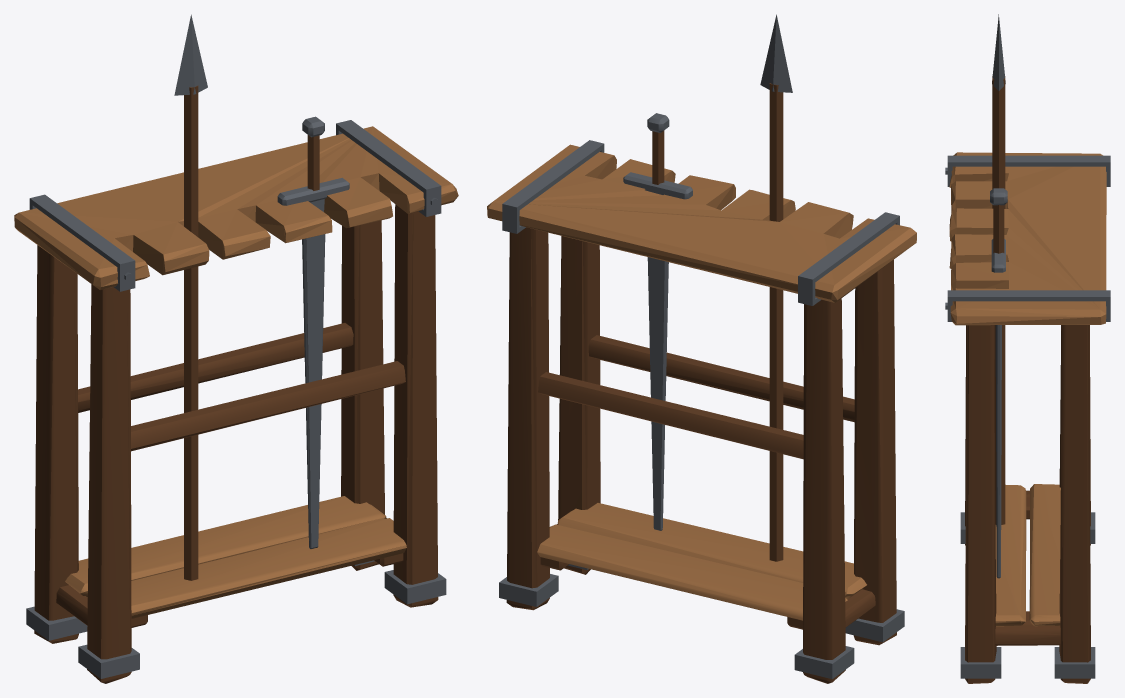
Rendered from smith_weapon_rack.glb.
3 views of the same model, side by side, from view 1: azimuth 30°, elevation 25°; view 2: azimuth 150°, elevation 25°; view 3: azimuth 270°, elevation 25° (orthographic). The views are drawn at different scales.
Visible parts, largest first — view 1: top_board, frame_leg_front_left, frame_leg_front_right, frame_leg_back_left, frame_leg_back_right, tray_plank_1, tray_plank_0, frame_long_rail_front, spear_shaft, frame_long_rail_back, sword_blade, strap_l_band (+8 smaller); view 2: top_board, frame_leg_back_left, frame_leg_back_right, frame_leg_front_left, frame_leg_front_right, tray_plank_0, tray_plank_1, frame_long_rail_back, spear_shaft, frame_long_rail_front, sword_blade, strap_r_band (+8 smaller); view 3: top_board, frame_leg_back_right, frame_leg_front_right, tray_plank_0, tray_plank_1, spear_shaft, strap_r_band, strap_l_band, sword_blade, frame_side_rail_right, frame_foot_band_front_right, frame_foot_band_back_right (+5 smaller).
Boxes of the visible parts, x1,y1,x2,y2 form: top_board: [14, 126, 458, 289]; frame_leg_front_left: [87, 284, 131, 683]; frame_leg_front_right: [393, 204, 438, 607]; frame_leg_back_left: [34, 245, 78, 643]; frame_leg_back_right: [341, 220, 384, 570]; tray_plank_1: [131, 518, 406, 618]; tray_plank_0: [65, 496, 386, 596]; frame_long_rail_front: [131, 361, 405, 451]; spear_shaft: [184, 85, 198, 580]; frame_long_rail_back: [78, 323, 353, 412]; sword_blade: [302, 199, 325, 548]; strap_l_band: [29, 194, 135, 291]; top_board: [487, 144, 916, 302]; frame_leg_back_left: [803, 298, 845, 683]; frame_leg_back_right: [506, 227, 549, 610]; frame_leg_front_left: [853, 260, 896, 645]; frame_leg_front_right: [558, 236, 600, 574]; tray_plank_0: [537, 524, 847, 620]; tray_plank_1: [557, 503, 866, 598]; frame_long_rail_back: [538, 372, 803, 459]; spear_shaft: [769, 83, 783, 561]; frame_long_rail_front: [588, 335, 854, 422]; sword_blade: [647, 257, 668, 530]; strap_r_band: [502, 140, 604, 233]; top_board: [949, 152, 1106, 325]; frame_leg_back_right: [1059, 325, 1090, 683]; frame_leg_front_right: [965, 325, 996, 683]; tray_plank_0: [1029, 484, 1060, 626]; tray_plank_1: [995, 484, 1026, 626]; spear_shaft: [992, 76, 1005, 524]; strap_r_band: [945, 290, 1110, 321]; strap_l_band: [945, 155, 1110, 186]; sword_blade: [995, 325, 1001, 578]; frame_side_rail_right: [995, 624, 1060, 645]; frame_foot_band_front_right: [960, 647, 1001, 678]; frame_foot_band_back_right: [1054, 647, 1095, 678].
Size of what is drawn, in the model's own units: 1.09 by 1.79 by 0.4712.
